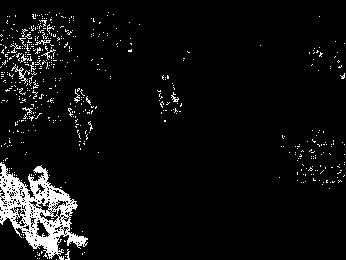person: (30, 163, 77, 260), (1, 163, 31, 260), (67, 86, 99, 156)
